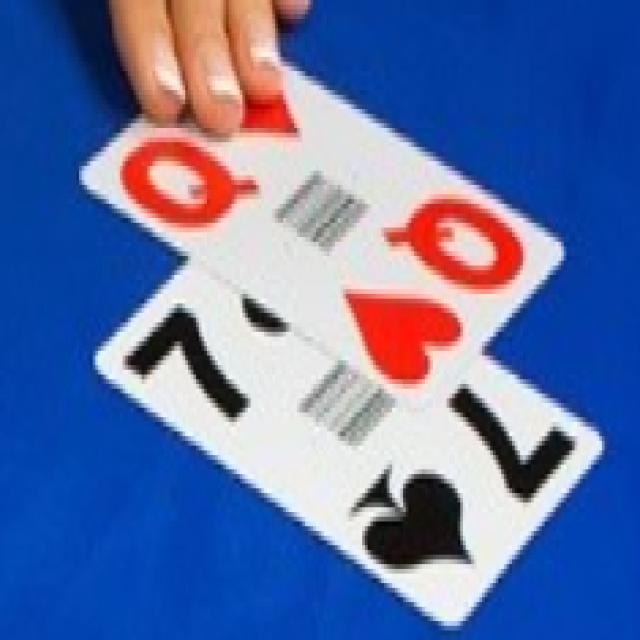Card-7: (94, 260, 603, 625)
Card-Q: (78, 62, 565, 419)
